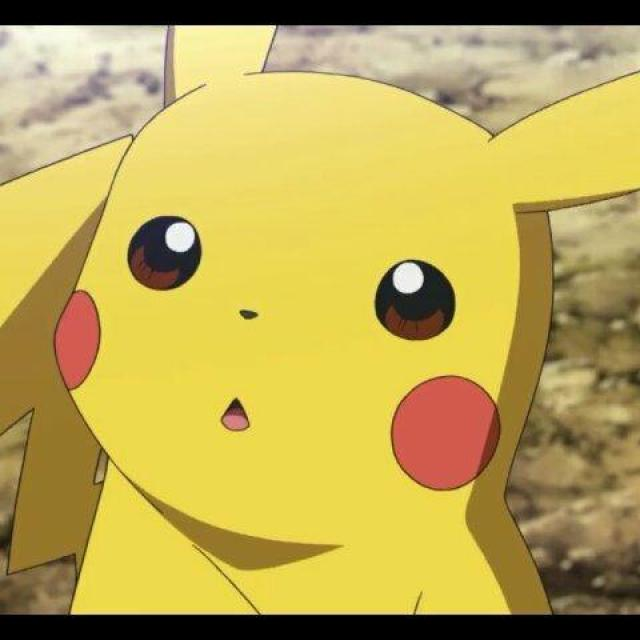pikachu: (0, 24, 640, 614)
